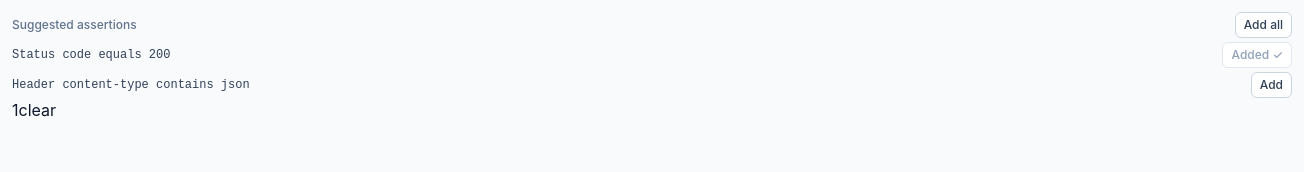
Test: SuggestionList › "Add all" adds only the suggestions that are not added yet
Click the button "Add all" at (1263, 25), box [1235, 12, 1292, 38]
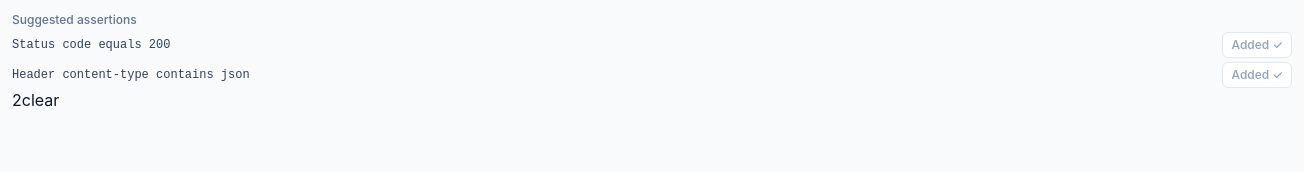
Expected: the text named "added count" reads "2", [12, 90, 22, 110]
Expected: the button "Add all" is gone
